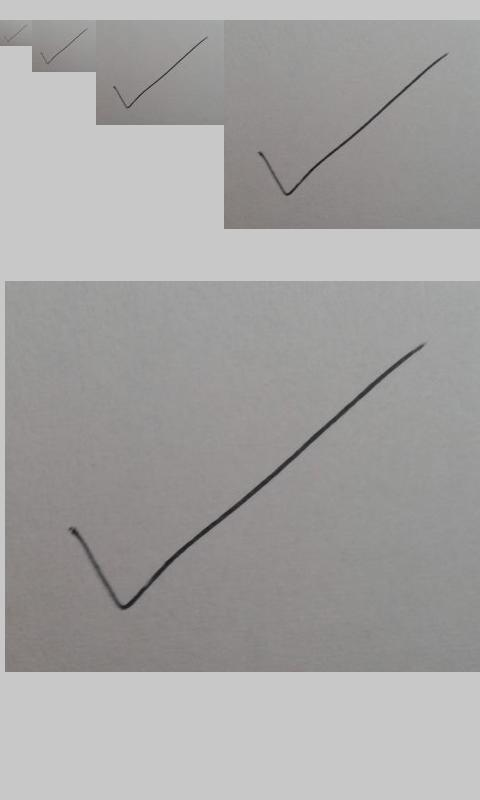check_box: (69, 345, 423, 614), (257, 53, 447, 198), (112, 36, 208, 109), (40, 28, 87, 65), (4, 25, 25, 42)
